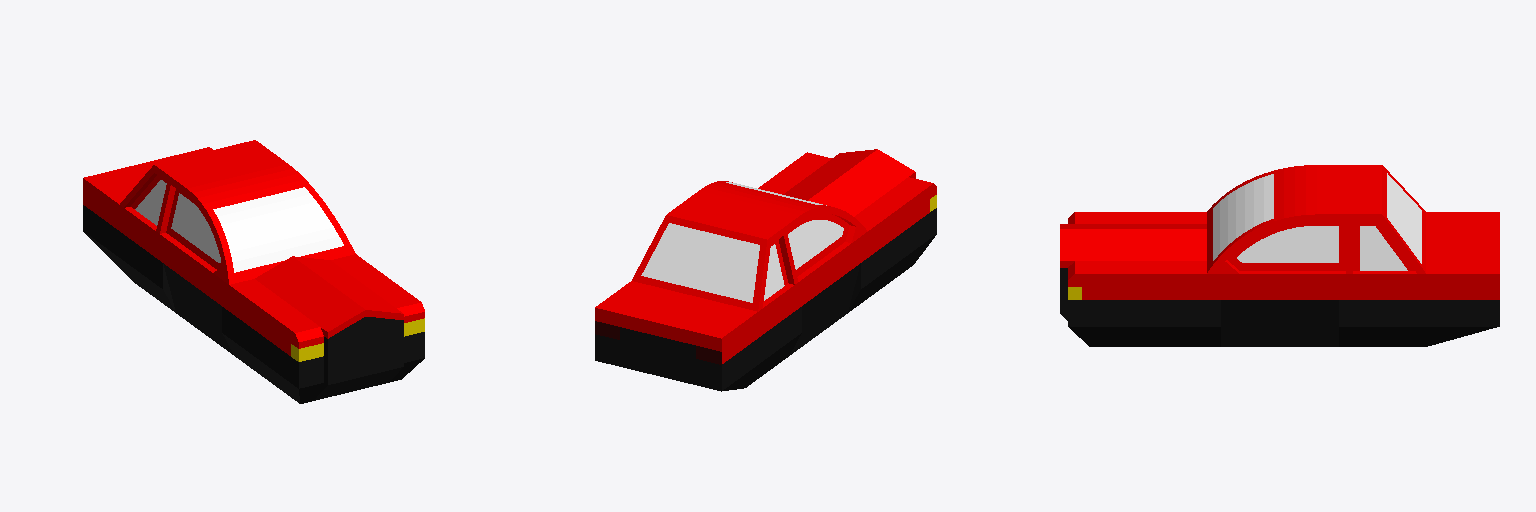
Rendered from car1body.obj.
The picture shows the model from 3 angles: view 1: azimuth 30°, elevation 25°; view 2: azimuth 150°, elevation 25°; view 3: azimuth 270°, elevation 25°; orthographic projection.
Parts seen in each view (by area): view 1: body_frontLuxury, body_topRound, body_backSolid, body_edge, body_topBackStandard; view 2: body_backSolid, body_frontLuxury, body_topBackStandard, body_topRound, body_edge; view 3: body_frontLuxury, body_backSolid, body_topRound, body_edge, body_topBackStandard.
Boxes of the visible parts, x1=… form: body_frontLuxury: x1=229, y1=254, x2=424, y2=403; body_topRound: x1=156, y1=151, x2=355, y2=284; body_backSolid: x1=83, y1=147, x2=212, y2=306; body_edge: x1=156, y1=232, x2=240, y2=359; body_topBackStandard: x1=120, y1=140, x2=269, y2=225; body_backSolid: x1=595, y1=281, x2=794, y2=391; body_frontLuxury: x1=758, y1=149, x2=936, y2=306; body_topBackStandard: x1=632, y1=204, x2=787, y2=311; body_topRound: x1=682, y1=181, x2=867, y2=284; body_edge: x1=783, y1=232, x2=867, y2=359; body_frontLuxury: x1=1060, y1=212, x2=1206, y2=346; body_backSolid: x1=1353, y1=212, x2=1499, y2=346; body_topRound: x1=1207, y1=165, x2=1352, y2=273; body_edge: x1=1207, y1=271, x2=1352, y2=346; body_topBackStandard: x1=1353, y1=165, x2=1425, y2=273.
Bounding box in the file's own units: 1 × 1 × 3.